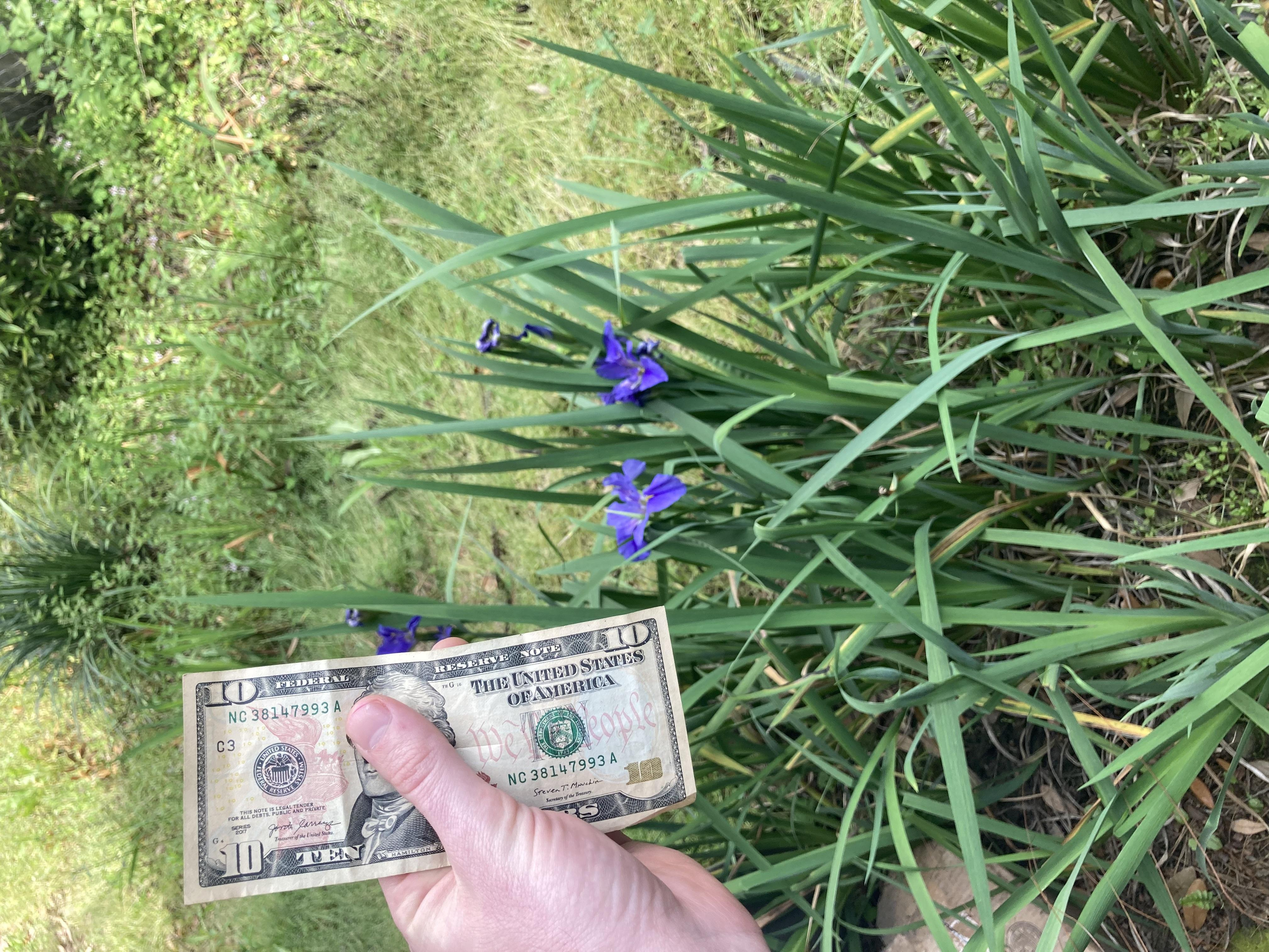ten-front: (59, 136, 463, 525)
